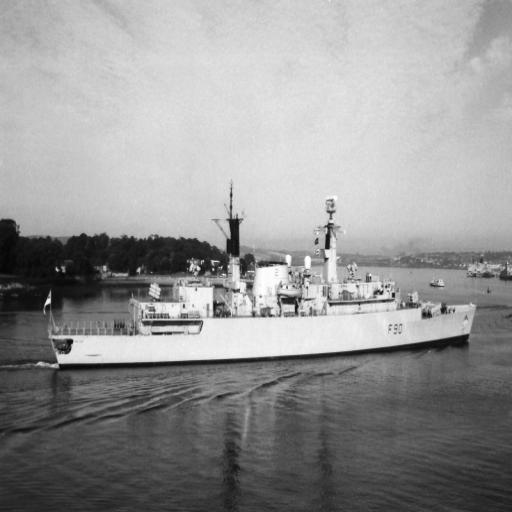Fragata: (44, 182, 479, 372)
